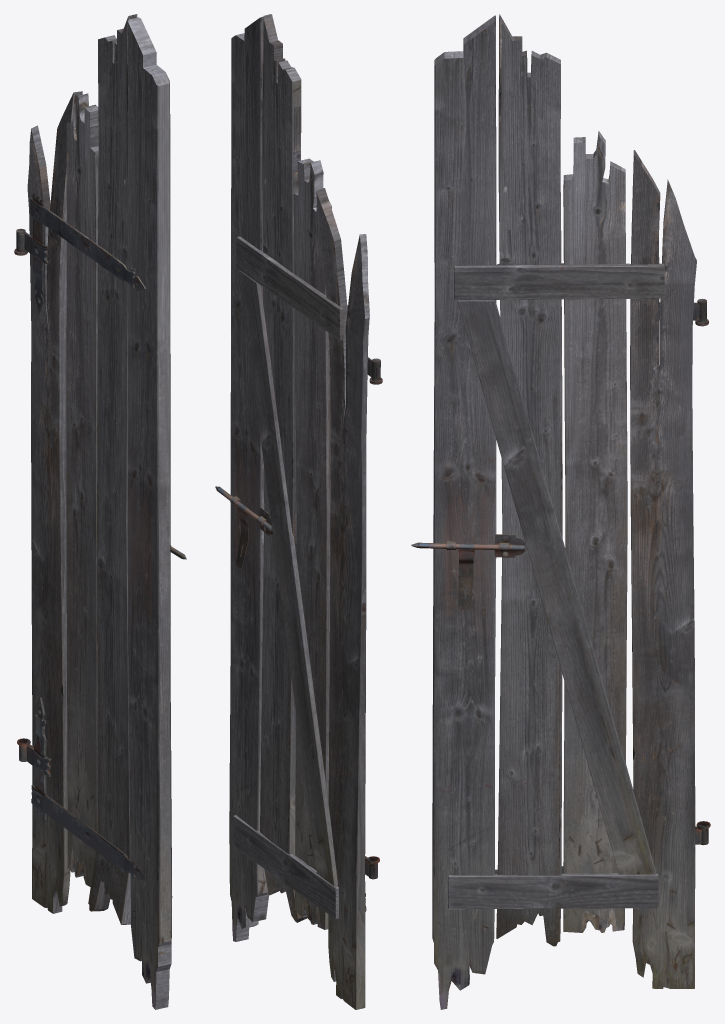
File: sm_Door_01_02.fbx
The picture shows the model from 3 angles, left to right: view 1: azimuth 30°, elevation 25°; view 2: azimuth 210°, elevation 25°; view 3: azimuth 270°, elevation 25°; orthographic projection. The views are drawn at different scales.
Visible parts, largest first — view 1: sm_Door_01_02_LOD0; view 2: sm_Door_01_02_LOD0; view 3: sm_Door_01_02_LOD0.
Part boxes in pixels (x1,y1,x2,y2): sm_Door_01_02_LOD0: (14, 14, 186, 1009); sm_Door_01_02_LOD0: (215, 14, 382, 1009); sm_Door_01_02_LOD0: (411, 14, 710, 1009).
Size of the model in its own units: 11.22 by 80.59 by 295.
